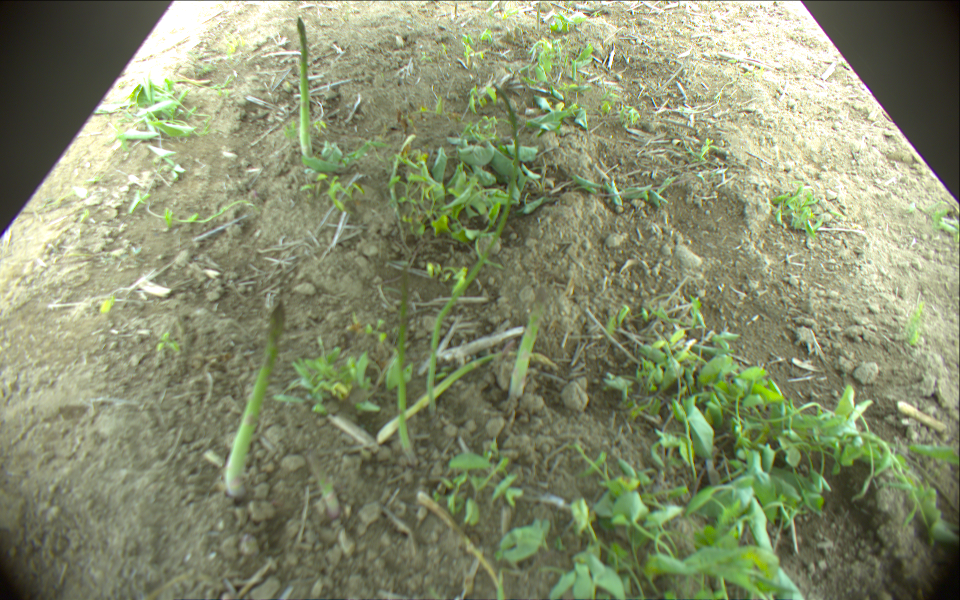aspa: (427, 82, 519, 421), (376, 350, 558, 443), (224, 301, 284, 502), (393, 266, 417, 465), (509, 306, 544, 399), (305, 451, 342, 525), (294, 16, 313, 159), (536, 1, 542, 26)
